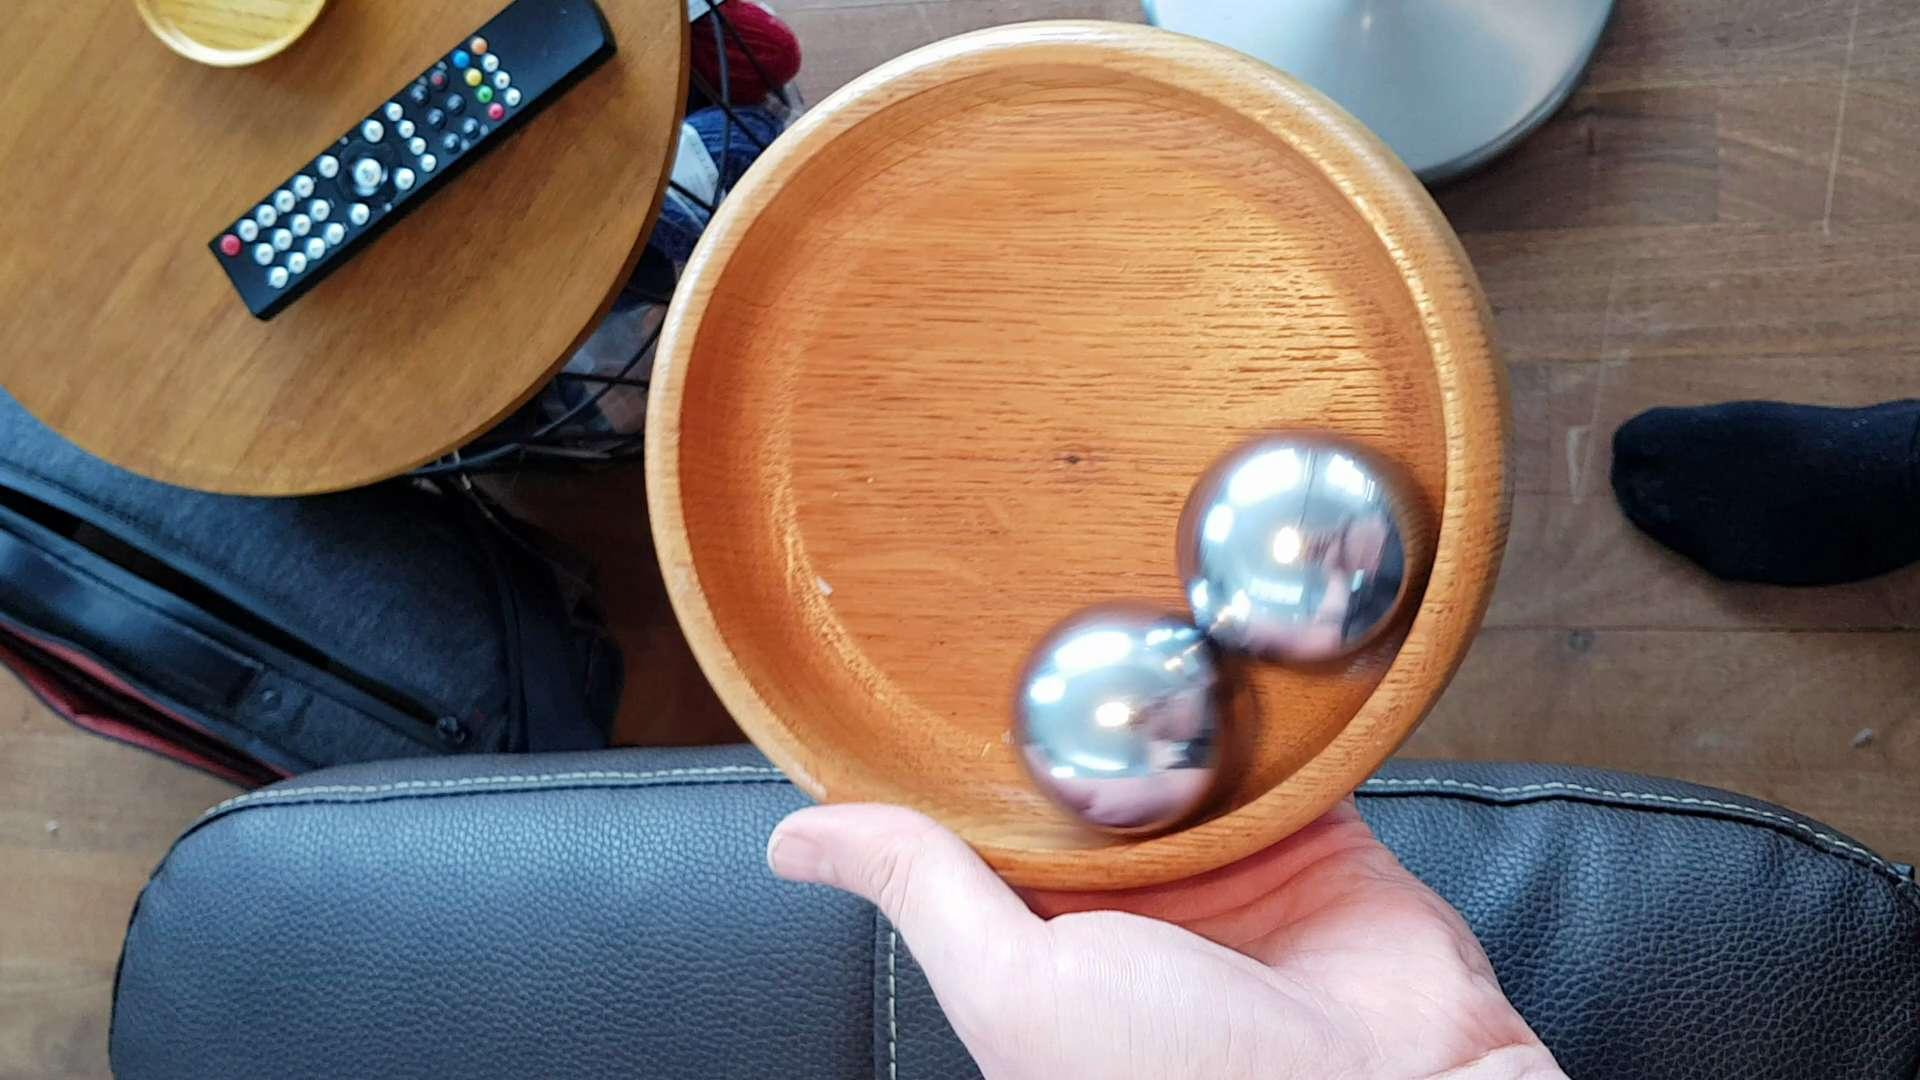sphere: (1167, 433, 1419, 694), (1010, 593, 1265, 839)
